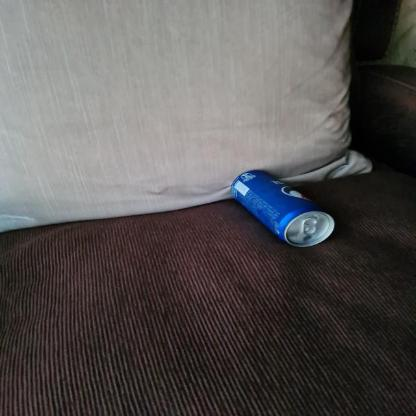Can: (230, 168, 340, 246)
